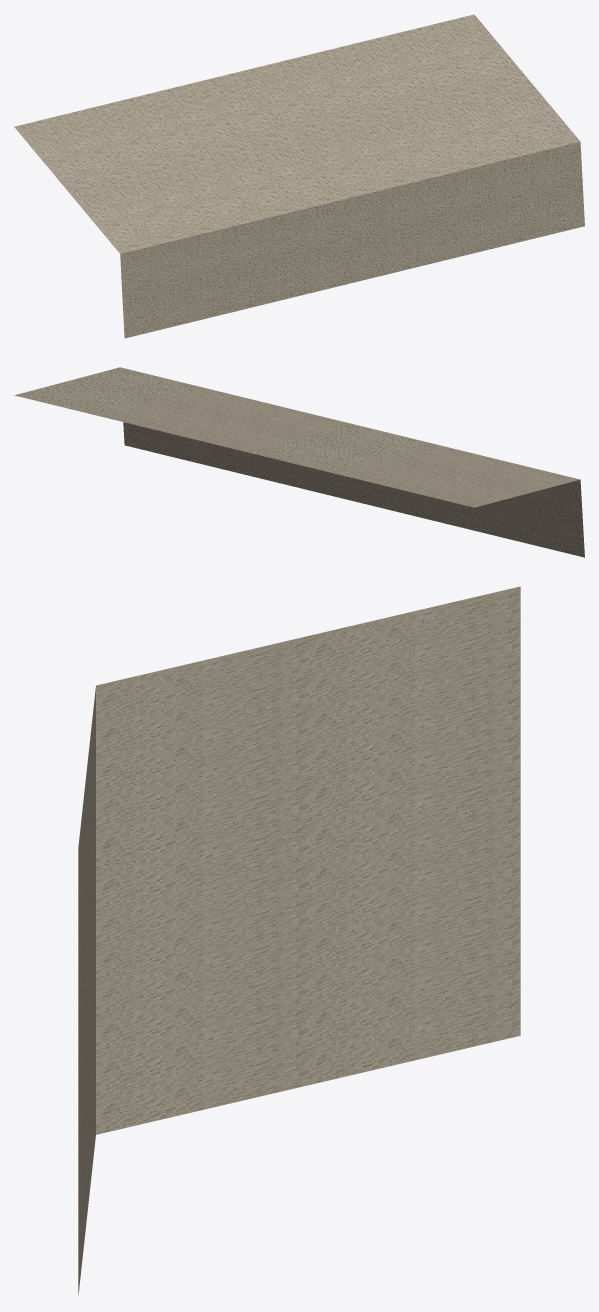
Rendered from sbseabed98_las.obj.
3 renders of one model, top to bottom at view 1: azimuth 30°, elevation 25°; view 2: azimuth 150°, elevation 25°; view 3: azimuth 270°, elevation 25°, orthographic. The views are drawn at different scales.
Parts seen in each view (by area): view 1: sbseabed98_LAS; view 2: sbseabed98_LAS; view 3: sbseabed98_LAS.
Boxes of the visible parts, x1=… form: sbseabed98_LAS: x1=14, y1=14, x2=584, y2=338; sbseabed98_LAS: x1=14, y1=367, x2=584, y2=557; sbseabed98_LAS: x1=78, y1=586, x2=520, y2=1295.
Bounding box in the file's own units: 300 × 81.52 × 125.
1 material, 1 textured.
